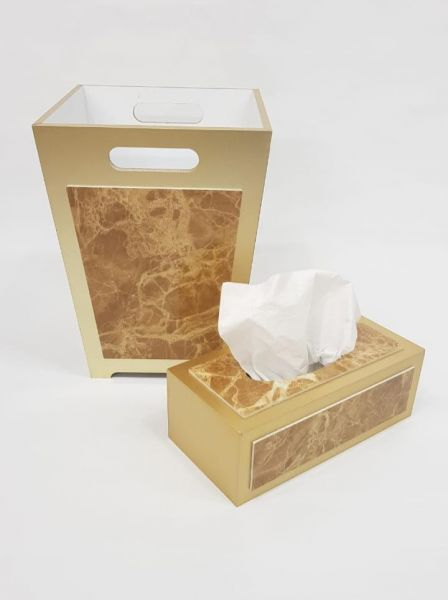Tissue: (212, 269, 362, 382)
